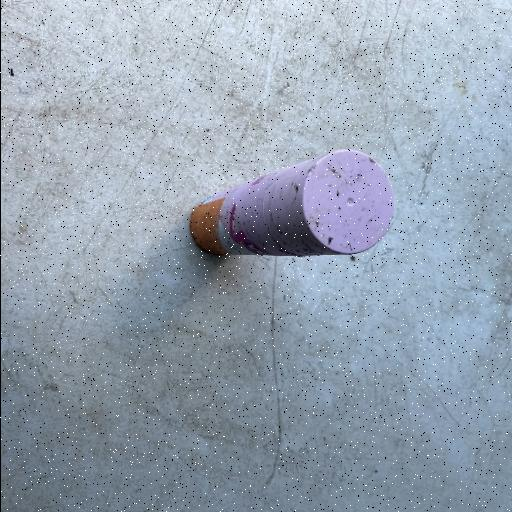Metal: (188, 146, 396, 258)
